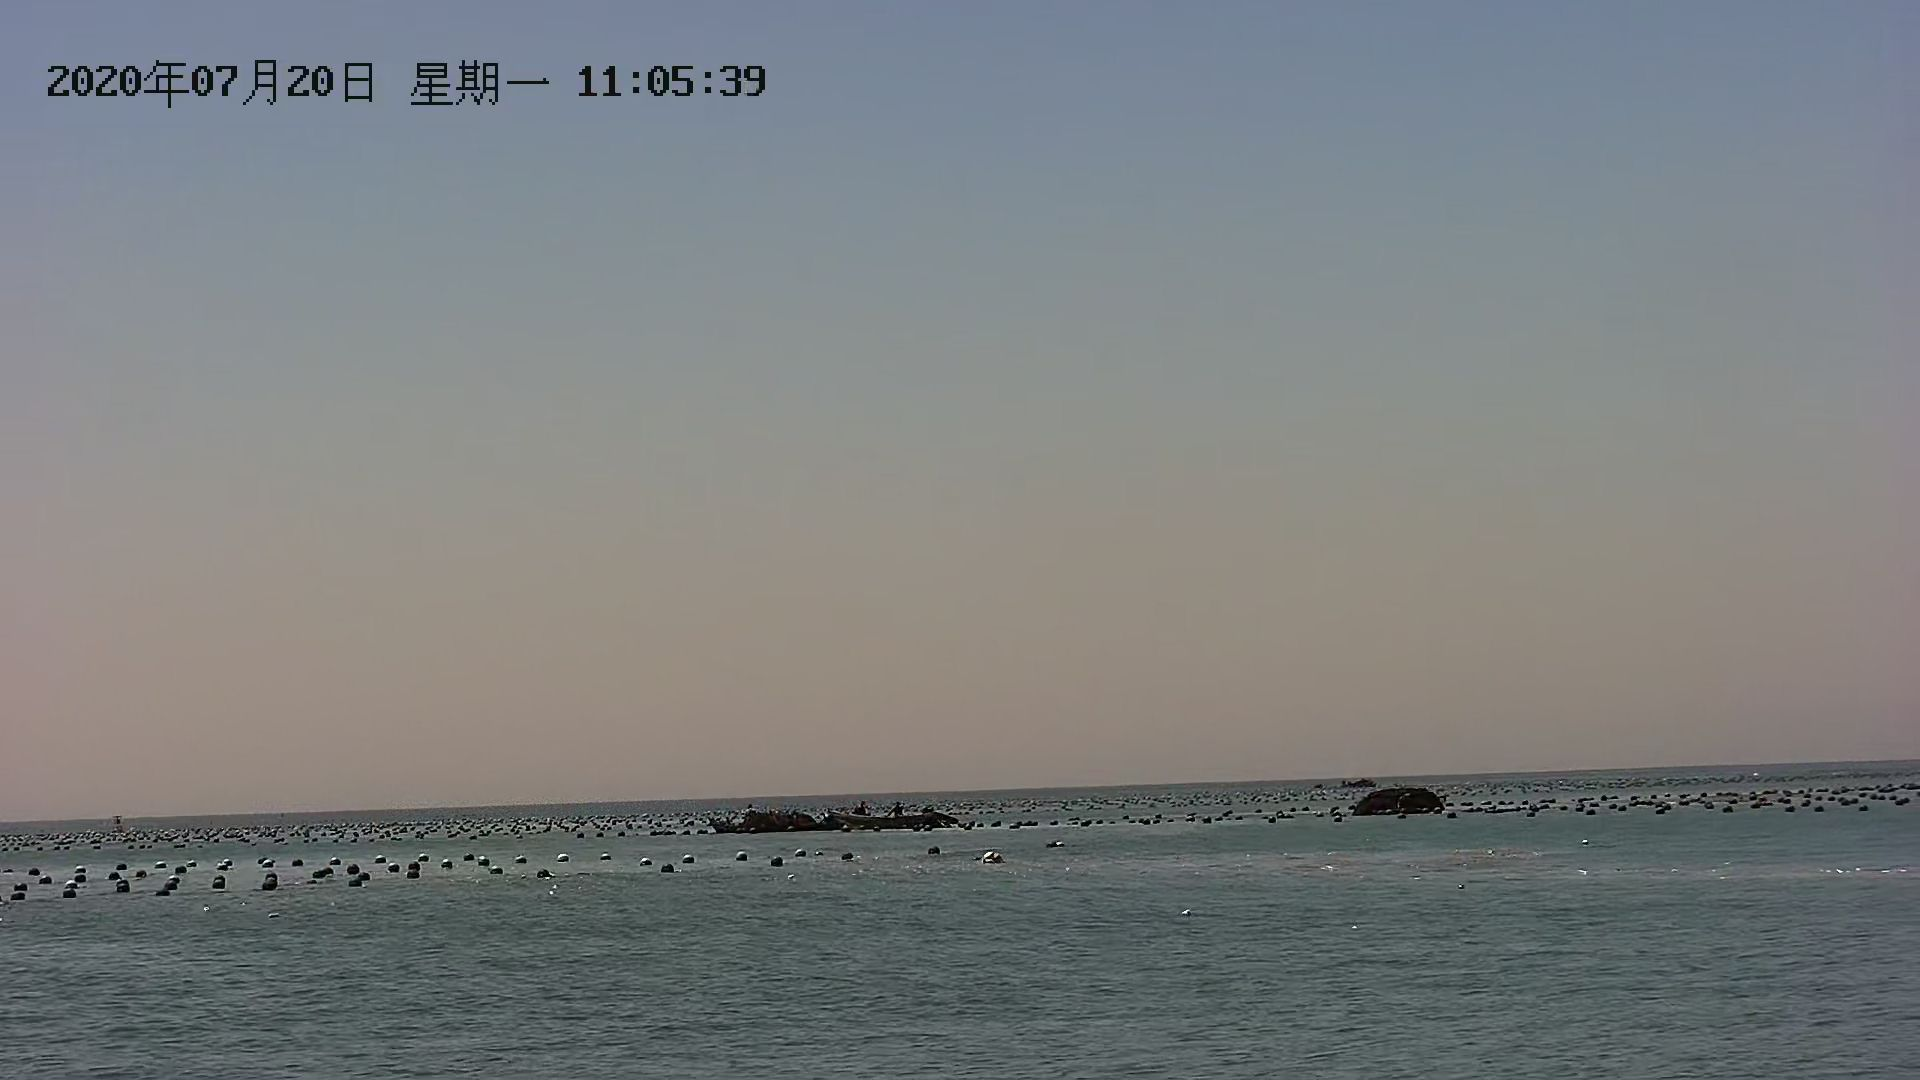rock: (694, 795, 975, 832), (1349, 785, 1449, 820)
